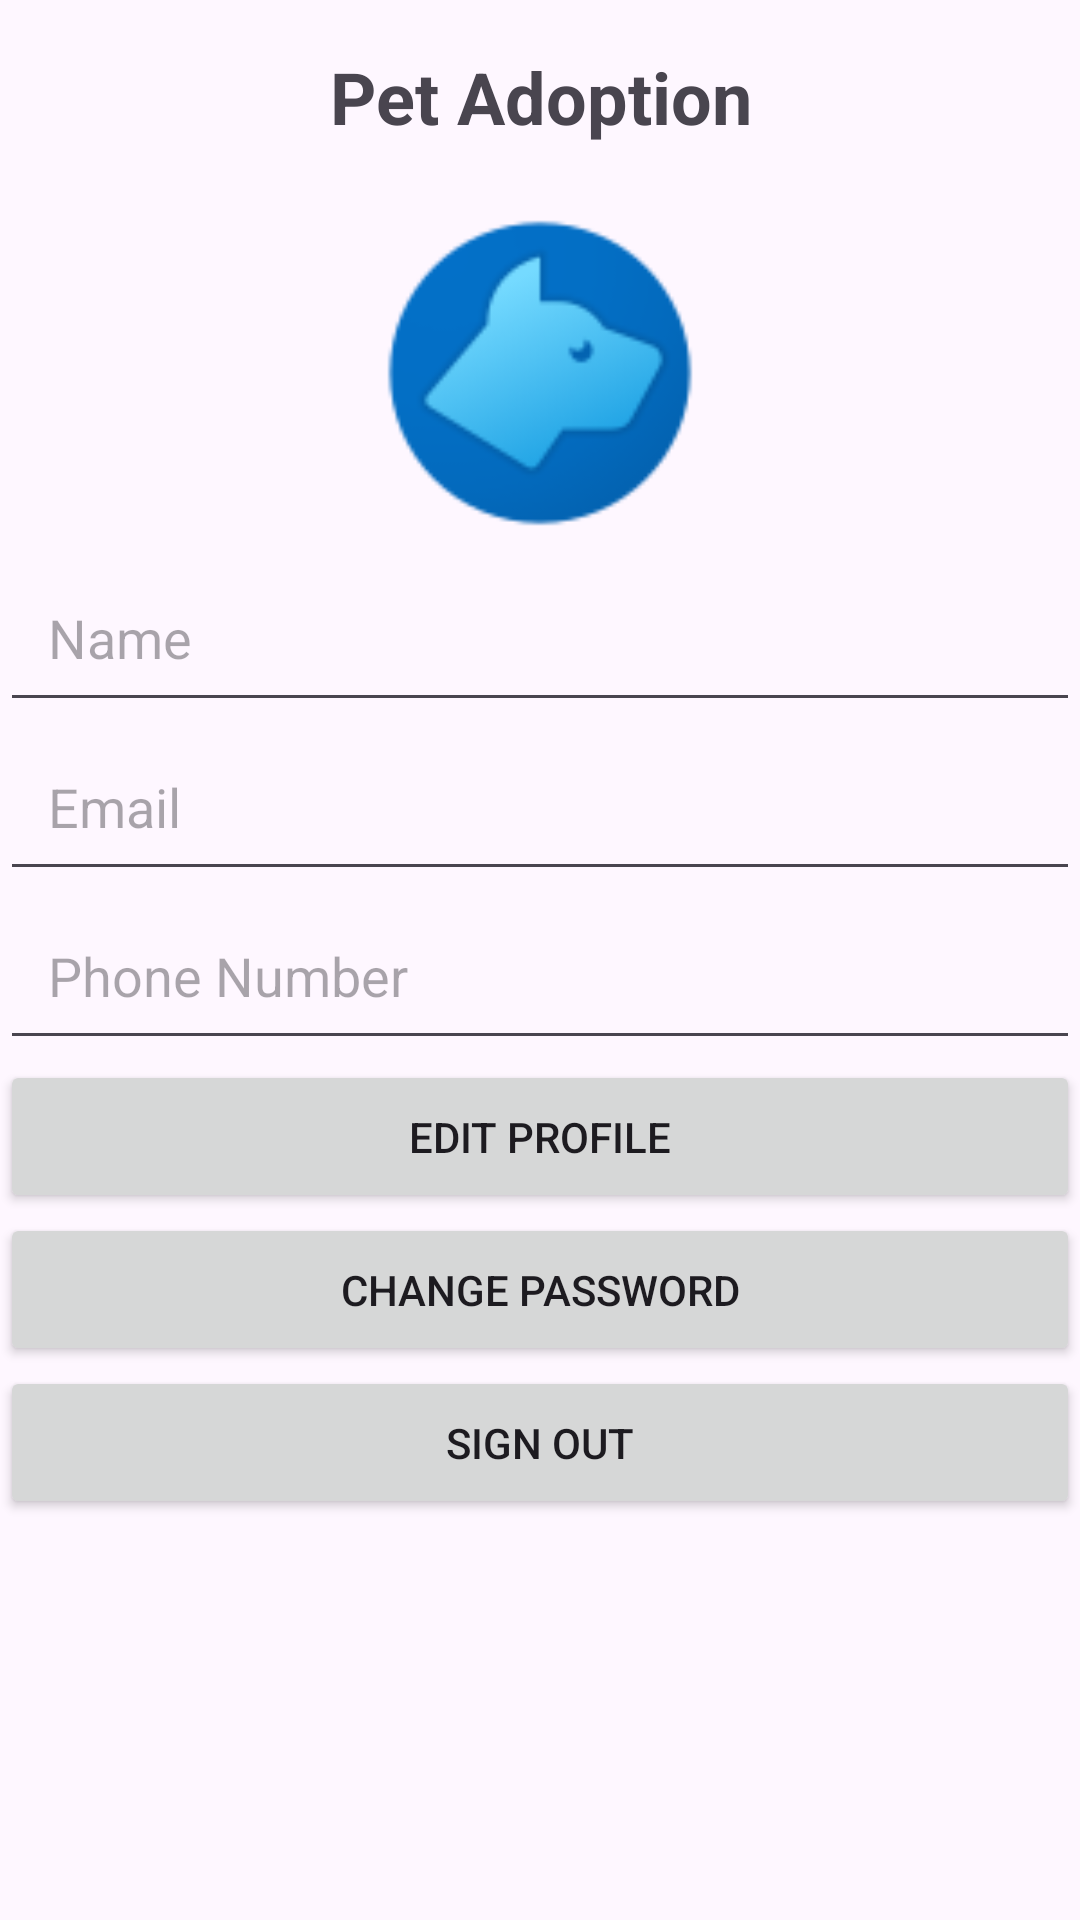

Named icons in this screenshot (1080px×1920px) and their bounding boxes, detection(x1, y1, x2, y2):
Profile Picture: detection(388, 221, 692, 525)
